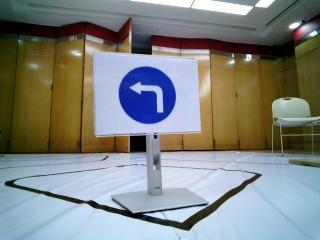left: (94, 52, 203, 133)
